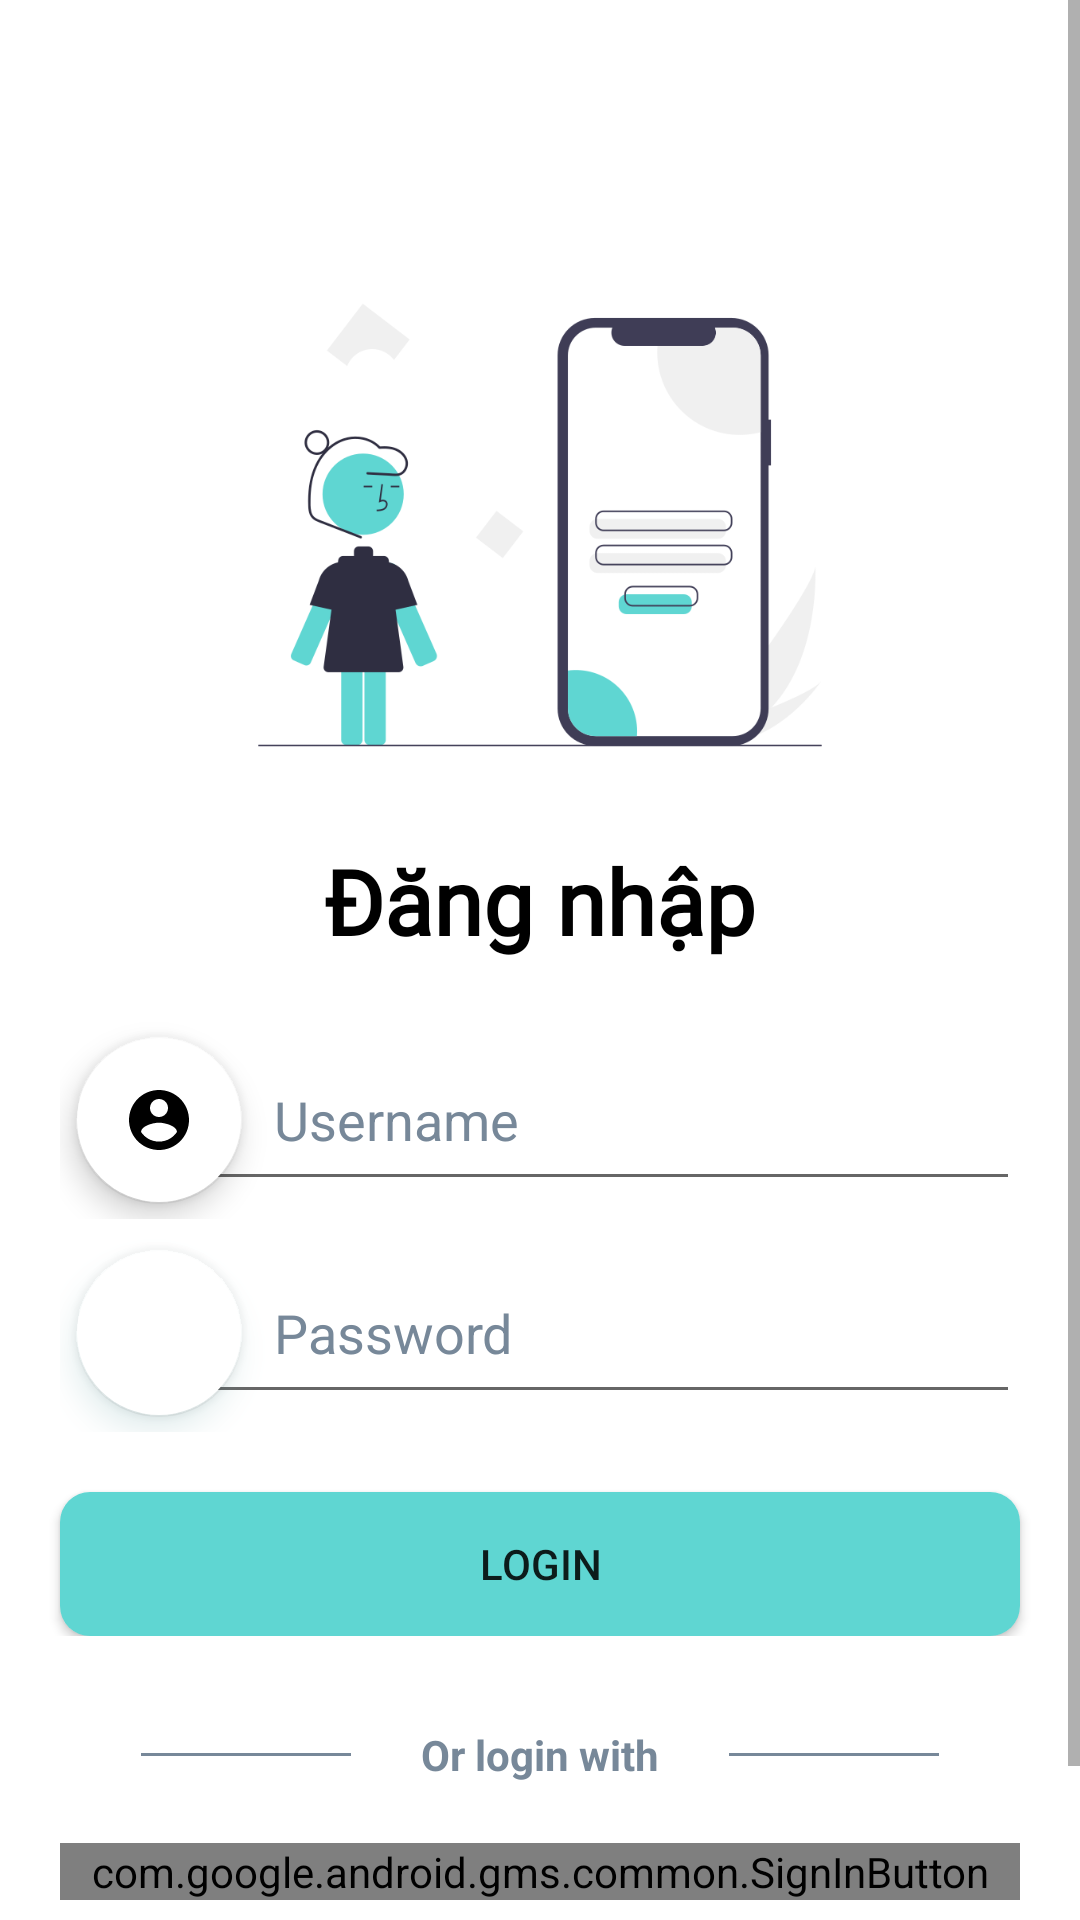

Where icons sit on this 1080x1920 app screen, as [x1=x1, y1=y1, x2=x2, y2=y2]:
account circle: [x1=79, y1=1090, x2=189, y2=1150]
